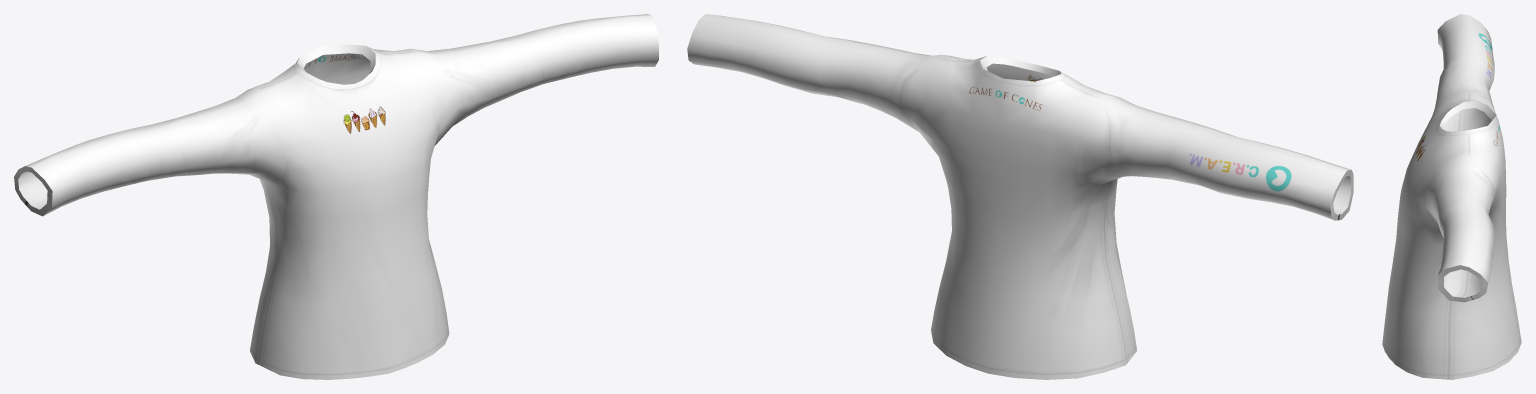
File: Longsleeve_62_Albedo.glb
3 views of the same model, side by side, from view 1: azimuth 30°, elevation 25°; view 2: azimuth 150°, elevation 25°; view 3: azimuth 270°, elevation 25° (orthographic). The views are drawn at different scales.
Parts seen in each view (by area): view 1: Longsleeve_LP; view 2: Longsleeve_LP; view 3: Longsleeve_LP.
Boxes of the visible parts, x1,y1,x2,y2 form: Longsleeve_LP: (14,14,658,379); Longsleeve_LP: (687,14,1353,379); Longsleeve_LP: (1382,14,1521,379).
Bounding box in the file's own units: 1.2 × 0.5118 × 0.2812.
1 material, 1 textured.
